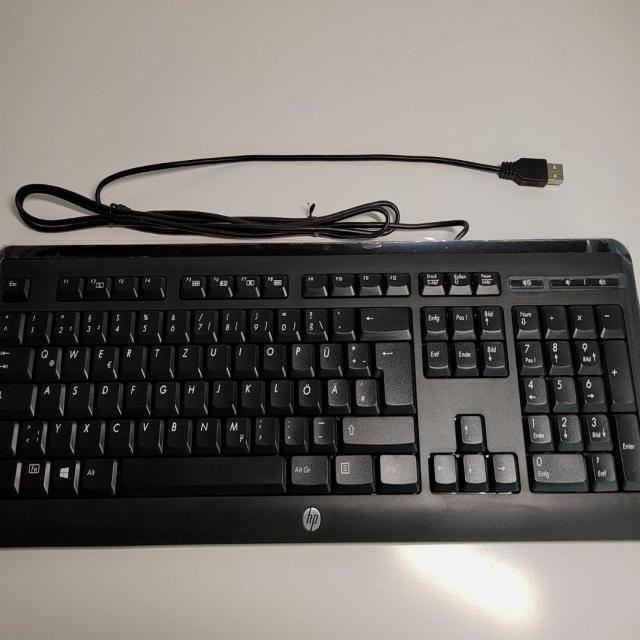0: (274, 304, 299, 338)
1: (23, 308, 49, 342)
2: (52, 307, 77, 341)
3: (79, 306, 103, 341)
4: (107, 307, 131, 341)
5: (135, 306, 160, 340)
6: (163, 305, 187, 340)
7: (190, 305, 215, 338)
8: (218, 305, 243, 339)
9: (246, 305, 271, 338)
a: (35, 380, 62, 415)
accent: (330, 305, 353, 333)
ae: (325, 376, 348, 406)
alt-left: (77, 455, 114, 493)
altgr-right: (287, 452, 328, 485)
b: (163, 415, 189, 449)
c: (104, 417, 132, 453)
caret: (0, 308, 21, 341)
comma: (252, 414, 275, 447)
d: (94, 379, 120, 415)
del: (358, 304, 409, 332)
e: (89, 343, 116, 377)
enter: (372, 338, 413, 405)
f: (124, 379, 148, 413)
g: (152, 379, 175, 411)
h: (181, 377, 205, 411)
hash: (353, 376, 376, 406)
i: (233, 341, 256, 371)
j: (210, 378, 234, 409)
k: (239, 377, 262, 408)
keyboard: (0, 240, 640, 547)
l: (268, 377, 290, 407)
less: (16, 417, 44, 454)
m: (222, 414, 248, 448)
minus: (310, 413, 334, 444)
n: (194, 415, 218, 448)
o: (260, 341, 284, 370)
oe: (295, 376, 319, 406)
p: (289, 340, 313, 370)
plus: (345, 339, 368, 369)
point: (281, 414, 305, 445)
q: (32, 343, 59, 378)
r: (118, 343, 144, 376)
s: (64, 379, 91, 415)
shift-left: (0, 418, 18, 455)
shift-lock: (0, 379, 33, 416)
shift-right: (340, 413, 414, 443)
space: (115, 452, 283, 492)
ss: (302, 305, 326, 336)
strg-left: (0, 456, 23, 496)
strg-right: (377, 451, 418, 484)
t: (147, 342, 171, 376)
tab: (0, 343, 30, 377)
u: (204, 341, 227, 372)
ue: (317, 340, 340, 369)
v: (135, 416, 160, 453)
w: (60, 343, 87, 377)
x: (75, 417, 102, 453)
y: (45, 417, 73, 454)
z: (175, 342, 199, 374)
